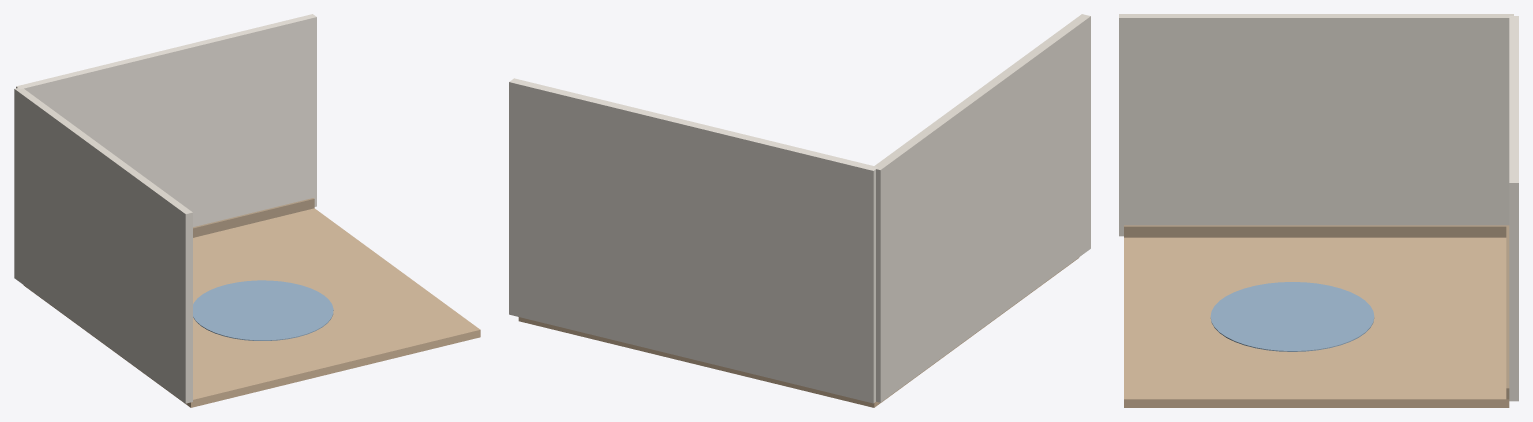
The model's file is room.glb.
The picture shows the model from 3 angles, left to right: view 1: azimuth 30°, elevation 25°; view 2: azimuth 150°, elevation 25°; view 3: azimuth 270°, elevation 25°; orthographic projection. The views are drawn at different scales.
Parts seen in each view (by area): view 1: room, rug; view 2: room; view 3: room, rug.
Part boxes in pixels (x1=…): room: x1=14, y1=14, x2=480, y2=407; rug: x1=193, y1=280, x2=333, y2=340; room: x1=509, y1=14, x2=1090, y2=407; room: x1=1119, y1=14, x2=1518, y2=407; rug: x1=1210, y1=282, x2=1374, y2=351.
Size of the model in its own units: 8.3 by 5.2 by 8.3.
